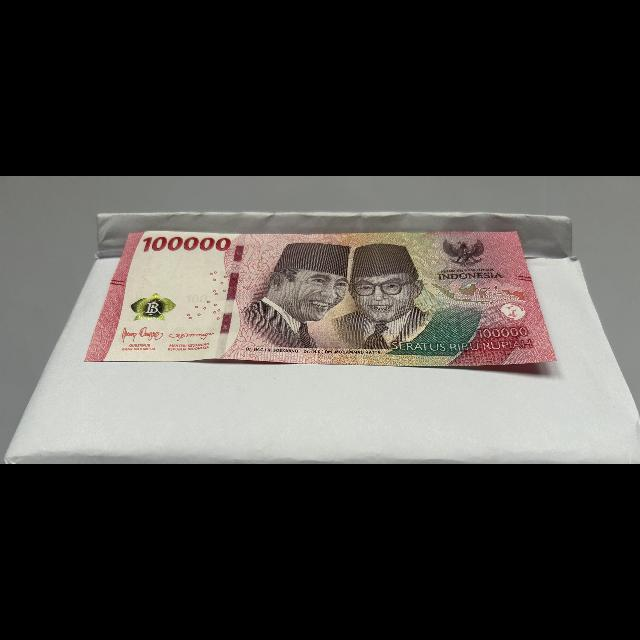Asli-100k: (80, 227, 561, 369)
Tinta-Asli-100k: (127, 291, 182, 323)
